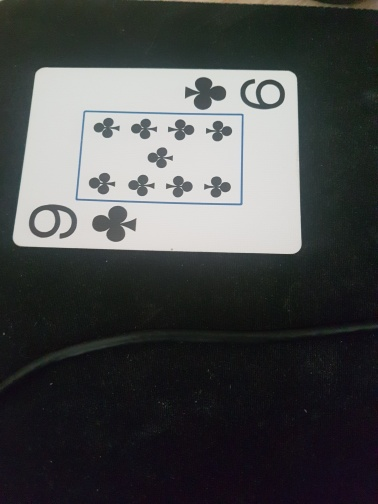nine: (12, 68, 304, 253)
